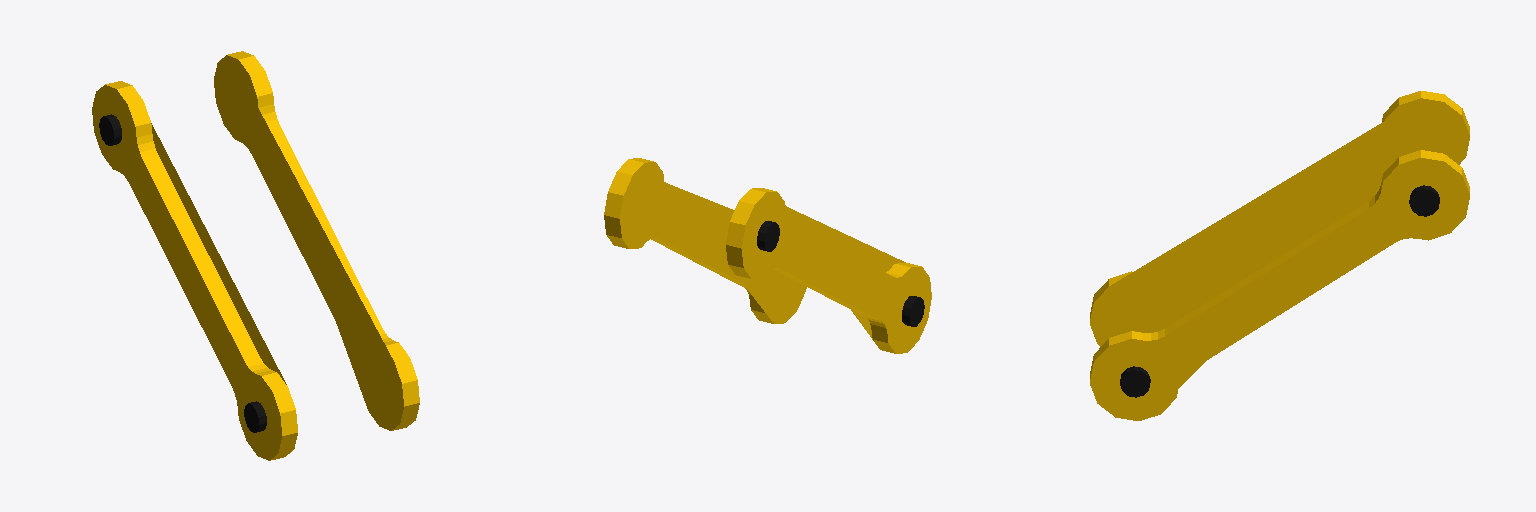
Rendered from ExBucketLink1.obj.
The picture shows the model from 3 angles: view 1: azimuth 30°, elevation 25°; view 2: azimuth 150°, elevation 25°; view 3: azimuth 270°, elevation 25°; orthographic projection.
Visible parts, largest first — view 1: Mesh1 Group1 Model, Mesh2 Group1 Model; view 2: Mesh1 Group1 Model, Mesh2 Group1 Model; view 3: Mesh2 Group1 Model, Mesh1 Group1 Model.
Part boxes in pixels (x1,y1,x2,y2): Mesh1 Group1 Model: (92, 81, 297, 460); Mesh2 Group1 Model: (214, 51, 419, 430); Mesh1 Group1 Model: (726, 188, 931, 353); Mesh2 Group1 Model: (604, 158, 806, 323); Mesh2 Group1 Model: (1090, 150, 1469, 420); Mesh1 Group1 Model: (1090, 91, 1469, 346).
Size of the model in its own units: 0.29 by 0.476 by 0.6228.